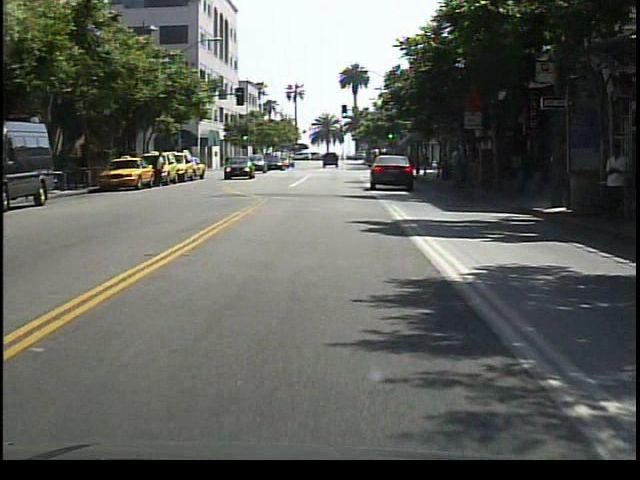person: (593, 140, 632, 225), (154, 149, 170, 189)
